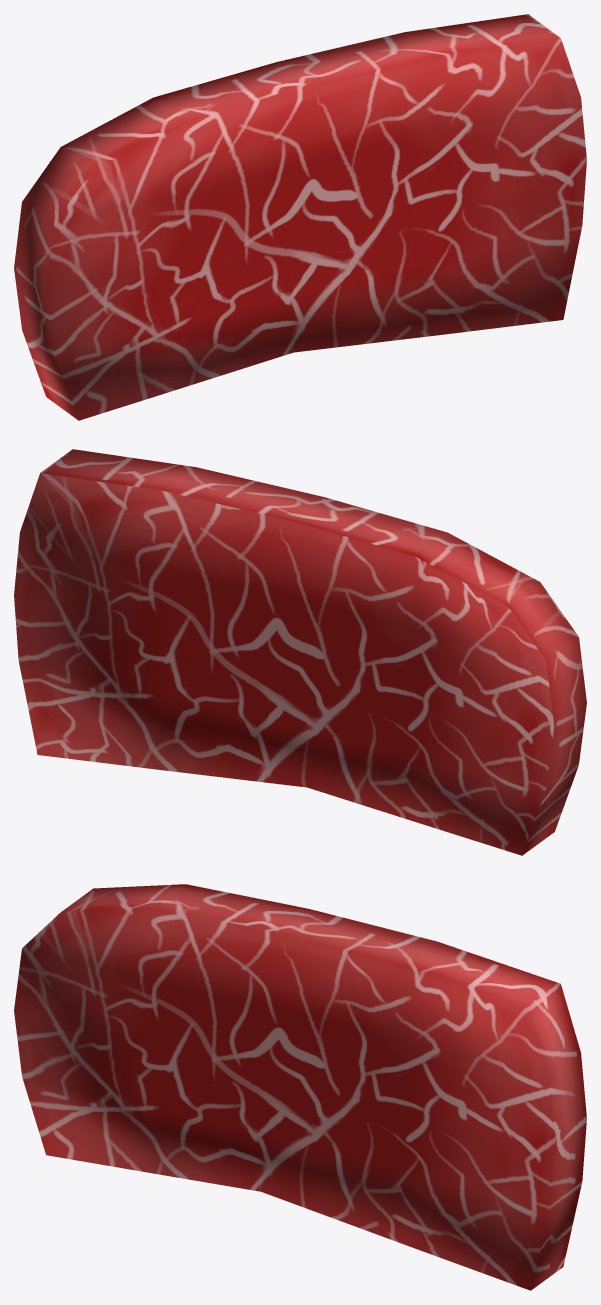
File: wagyu_chuck_flabtail.fbx
The picture shows the model from 3 angles, top to bottom: view 1: azimuth 30°, elevation 25°; view 2: azimuth 150°, elevation 25°; view 3: azimuth 330°, elevation 25°; orthographic projection.
Visible parts, largest first — view 1: wagyu chuck flabtail; view 2: wagyu chuck flabtail; view 3: wagyu chuck flabtail.
Boxes of the visible parts, x1=… form: wagyu chuck flabtail: x1=14, y1=14, x2=586, y2=420; wagyu chuck flabtail: x1=14, y1=449, x2=586, y2=855; wagyu chuck flabtail: x1=14, y1=884, x2=586, y2=1290.
Size of the model in its own units: 54.63 by 28.59 by 5.71.
